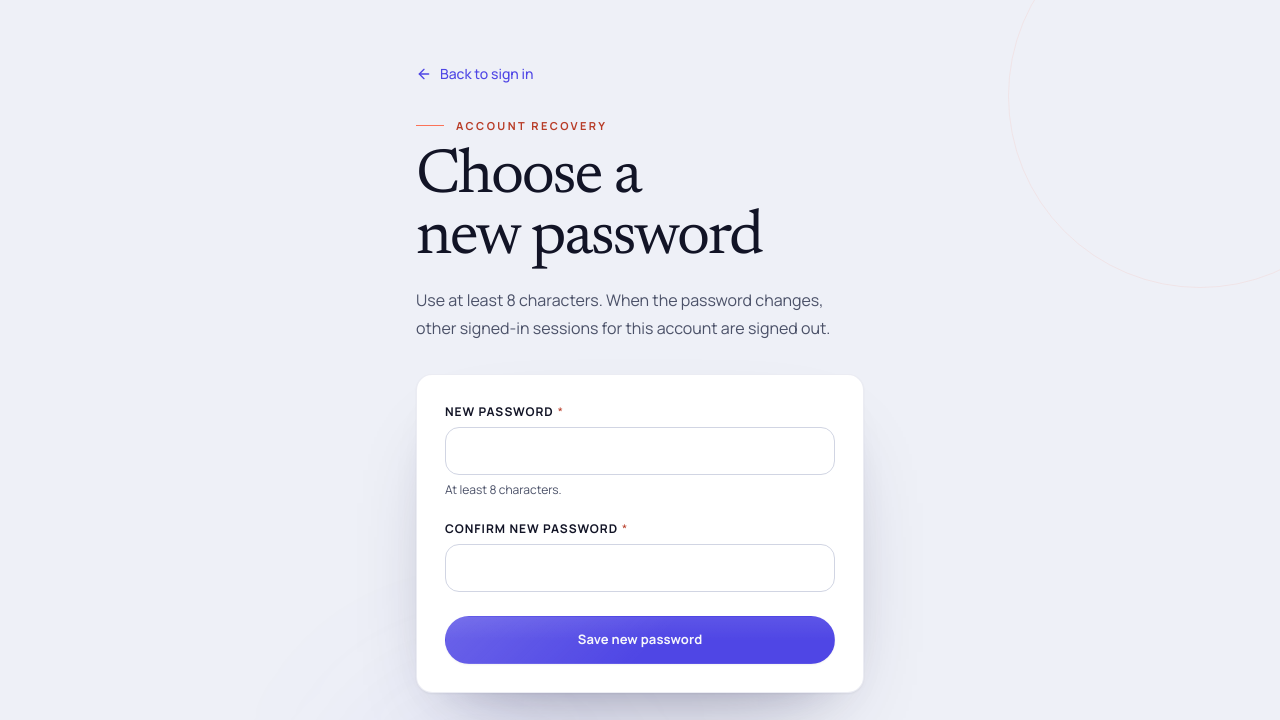
Test case: ResetPasswordPage › confirms a new password with the token from the link
Type "newpassword1" into the password field labelled "New password" at coordinates (640, 451), box 445,427 -> 835,475
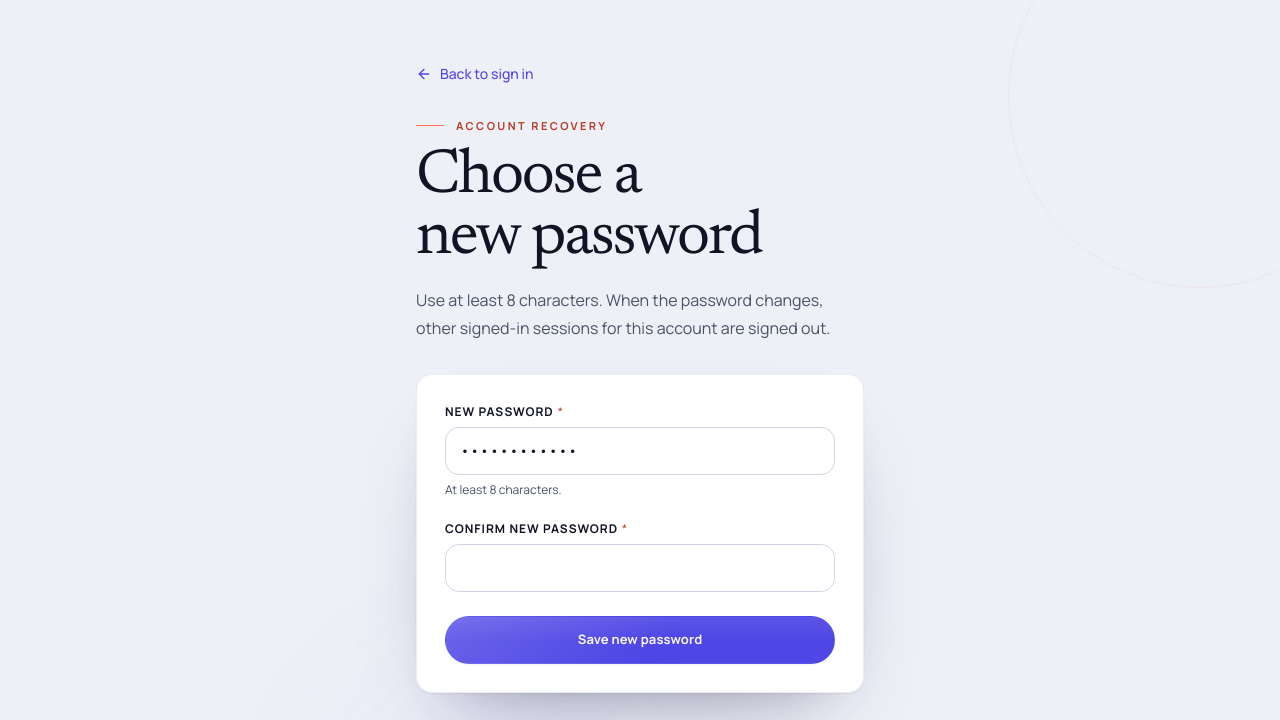
Type "newpassword1" into the password field labelled "Confirm new password" at coordinates (640, 568), box 445,544 -> 835,592
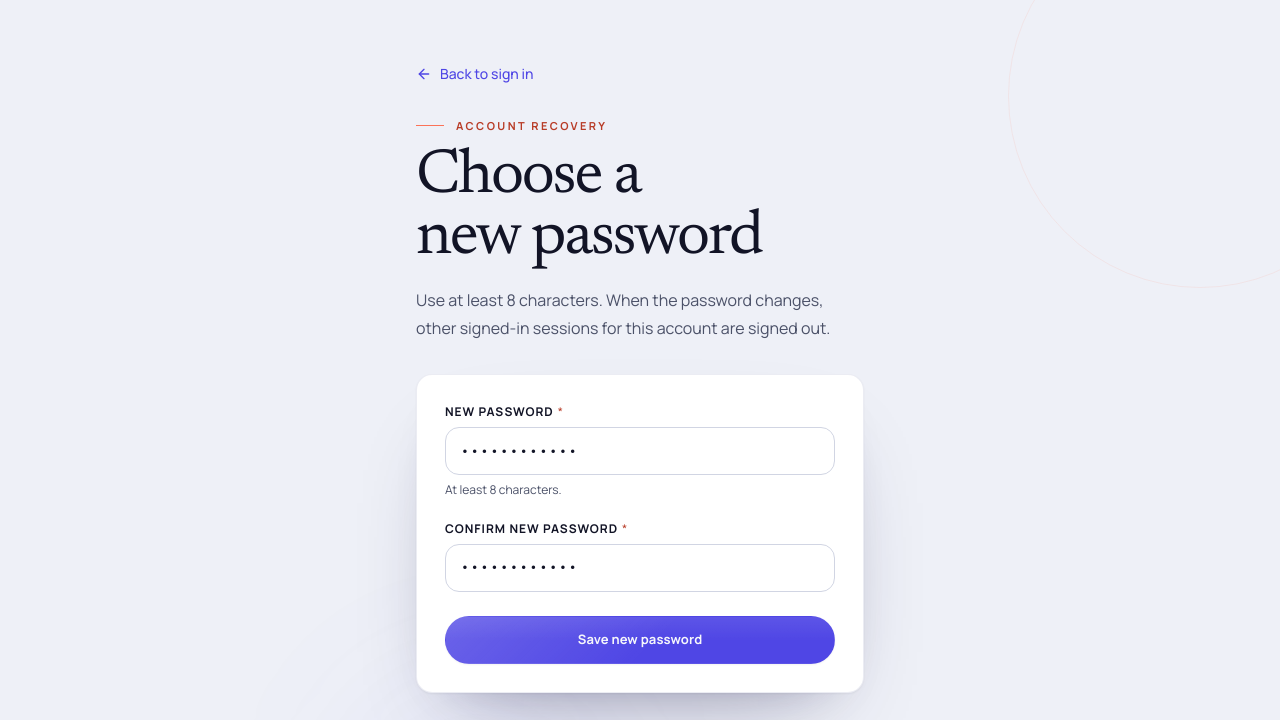
Click the button "Save new password" at coordinates (640, 640), box 445,616 -> 835,664
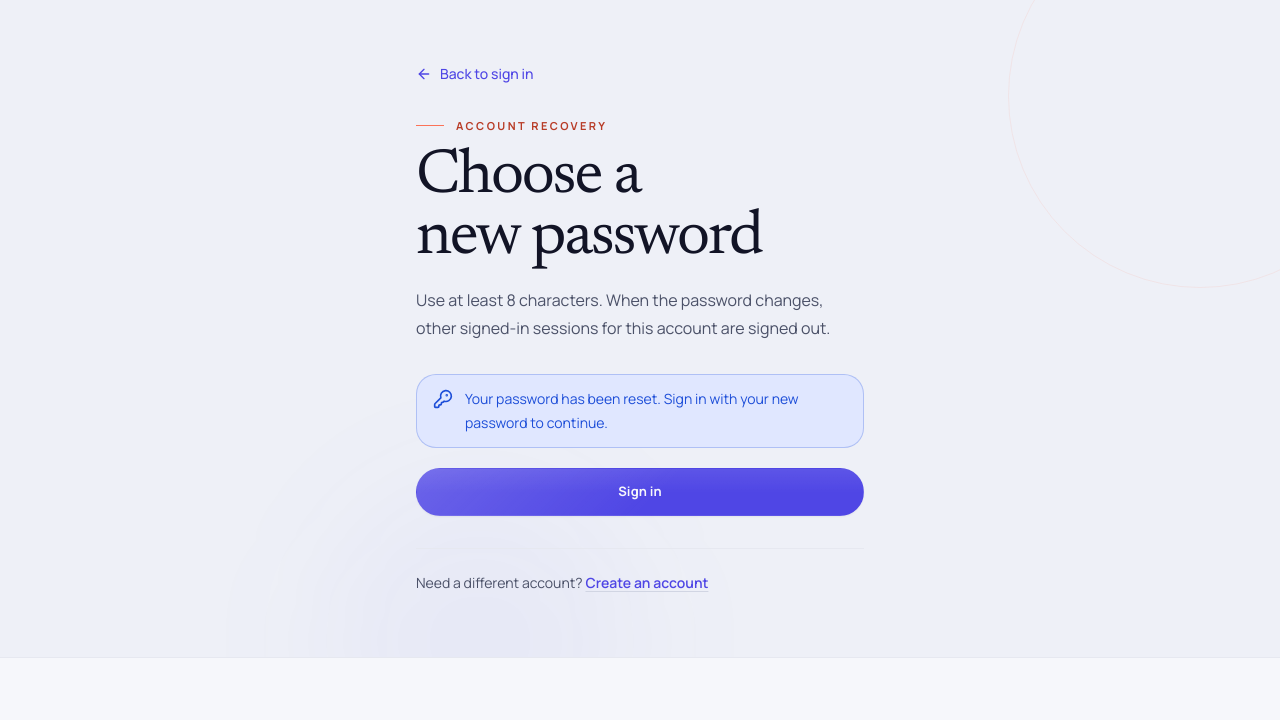
Check: the text "Your password has been reset" is shown, box 465,389 -> 799,432
